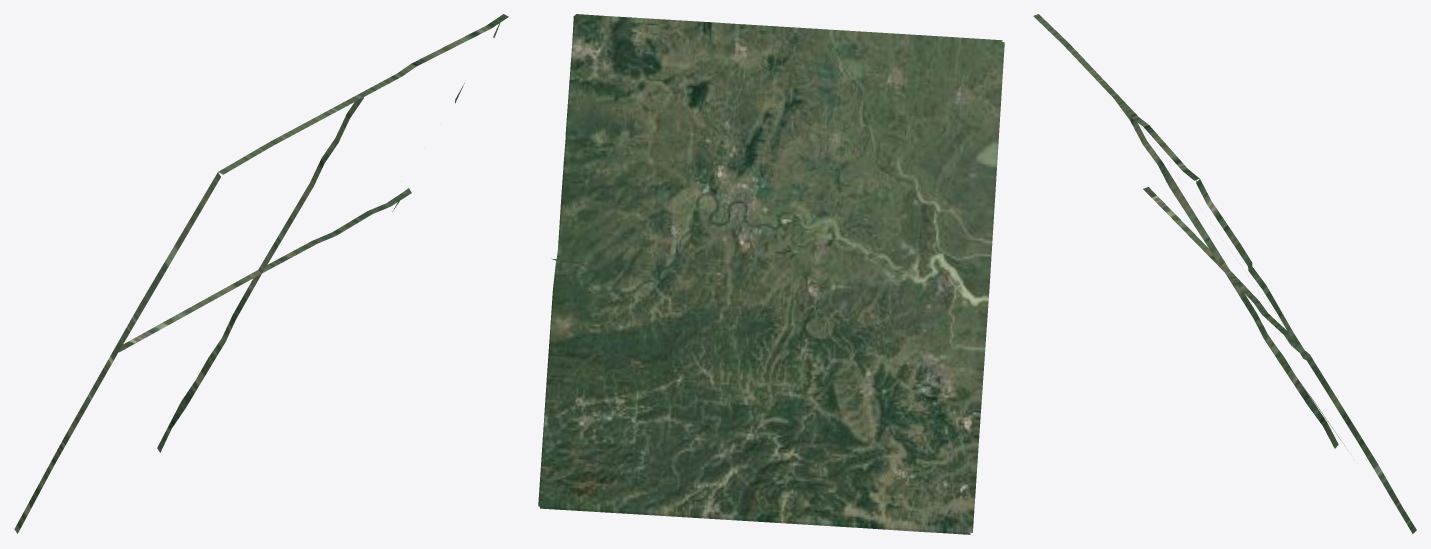
3 renders of one model, left to right at view 1: azimuth 30°, elevation 25°; view 2: azimuth 150°, elevation 25°; view 3: azimuth 270°, elevation 25°, orthographic. The views are drawn at different scales.
Bounding box in the file's own units: 156614 × 139320 × 123586.
Materials: 1 (1 with a texture image).
